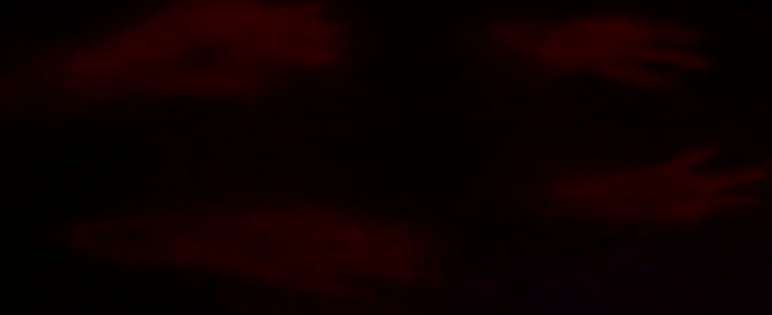paw: (53, 203, 467, 305), (57, 5, 341, 112), (529, 129, 767, 237), (468, 13, 722, 89)
